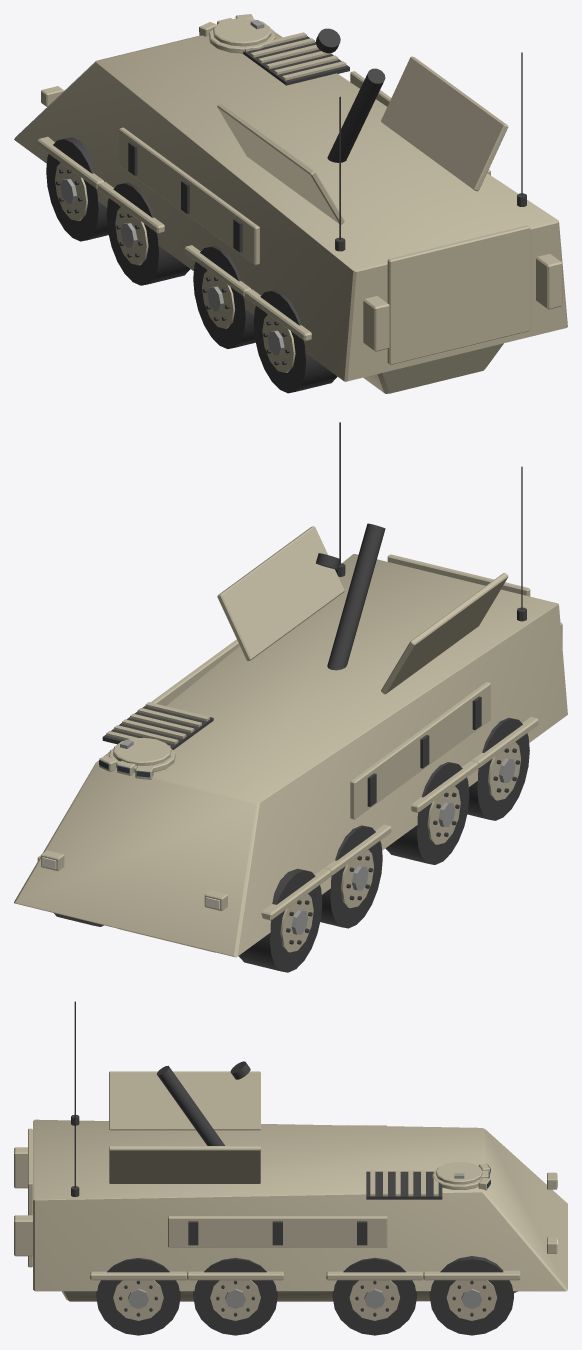
Rendered from usa_cst_lavm.glb.
3 views of the same model, one above another, from view 1: azimuth 30°, elevation 25°; view 2: azimuth 150°, elevation 25°; view 3: azimuth 270°, elevation 25° (orthographic). The views are drawn at different scales.
Parts seen in each view (by area): view 1: body, wheel_2, wheel_6, wheel_0, wheel_4, barrel; view 2: body, wheel_0, wheel_4, wheel_2, wheel_6, barrel; view 3: body, wheel_1, wheel_5, wheel_7, wheel_3, barrel.
Part boxes in pixels (box(x1,y1,x2,y2)): body: box(14, 14, 567, 393); wheel_2: box(106, 182, 190, 285); wheel_6: box(253, 290, 337, 393); wheel_0: box(46, 137, 108, 241); wheel_4: box(193, 246, 255, 348); barrel: box(315, 28, 385, 162); body: box(14, 422, 567, 957); wheel_0: box(238, 868, 322, 972); wheel_4: box(385, 762, 469, 864); wheel_2: box(320, 825, 382, 928); wheel_6: box(467, 717, 529, 820); barrel: box(316, 523, 385, 670); body: box(14, 1001, 567, 1301); wheel_1: box(429, 1256, 513, 1335); wheel_5: box(193, 1257, 277, 1335); wheel_7: box(96, 1258, 180, 1335); wheel_3: box(332, 1257, 416, 1335); barrel: box(156, 1061, 250, 1145).
Size of the model in its own units: 2.66 by 3.33 by 6.56.
